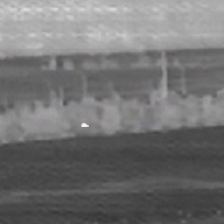Target: (79, 122, 90, 129)
